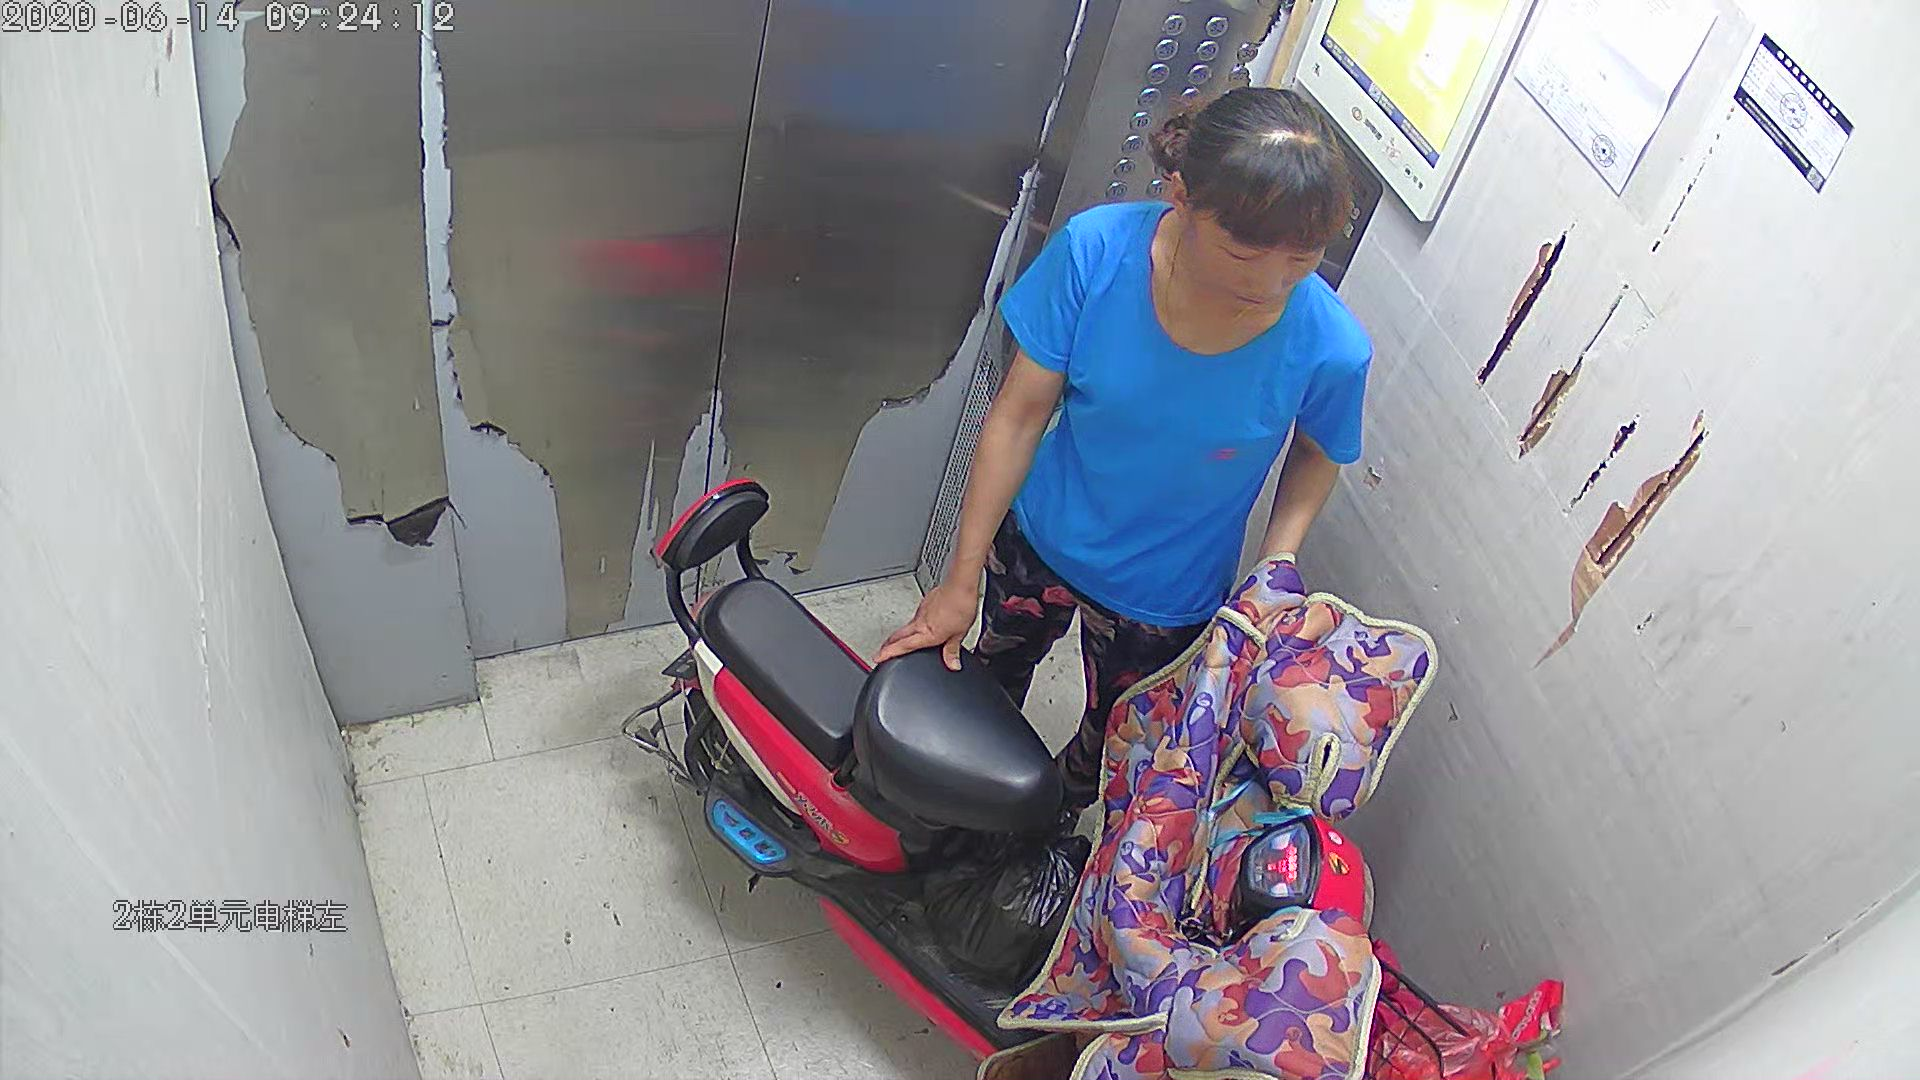Electric-bicycle: (654, 487, 1440, 1080)
